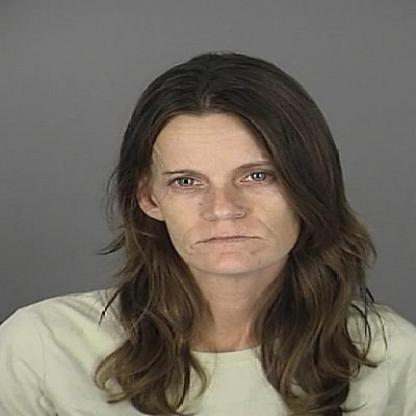long-hair: (113, 274, 367, 318)
